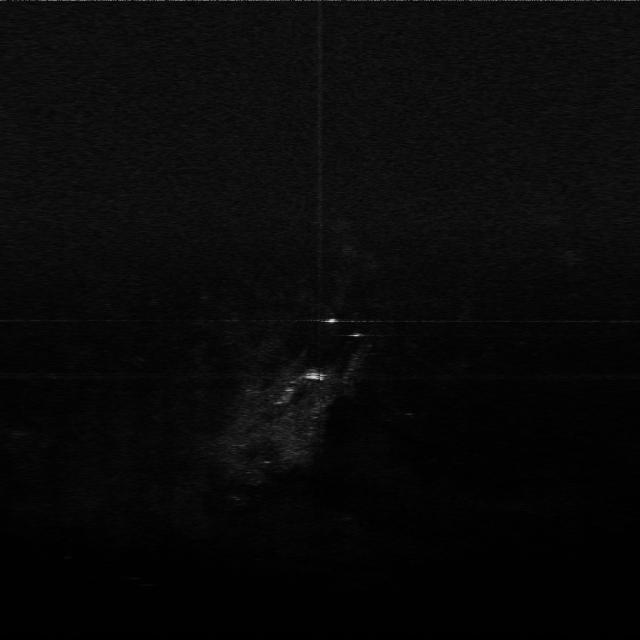rov: (303, 368, 331, 386)
